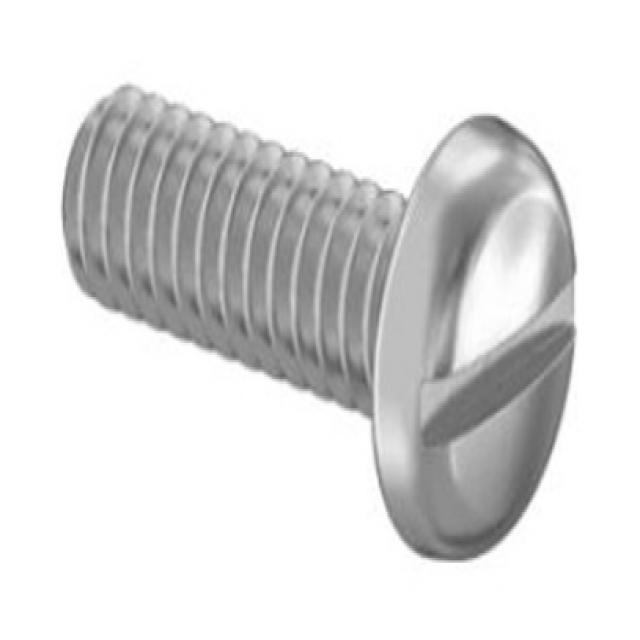Screw: (63, 87, 577, 559)
